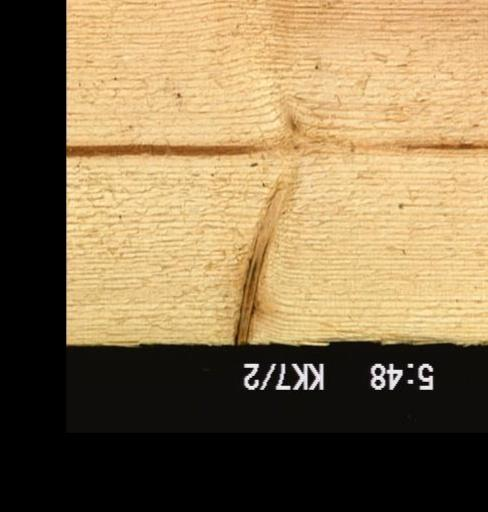dry_knot: (229, 162, 300, 344)
